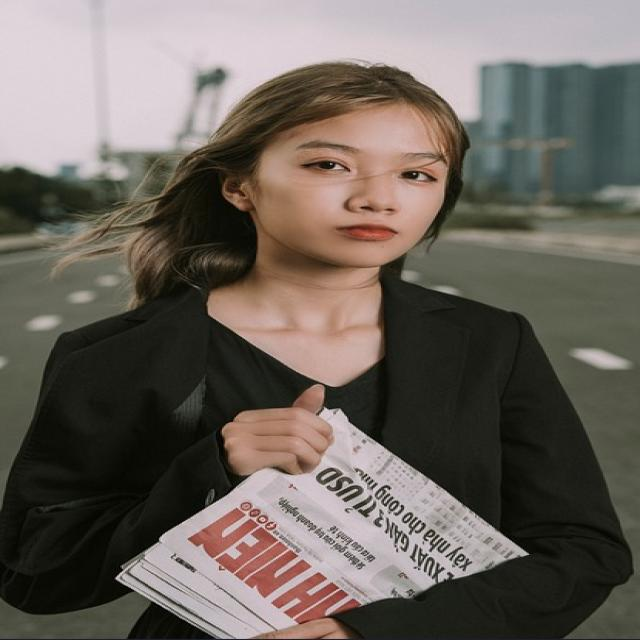Edited images: (9, 50, 626, 640)
